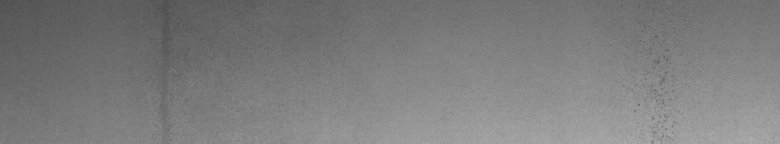ib: (629, 54, 679, 136)
